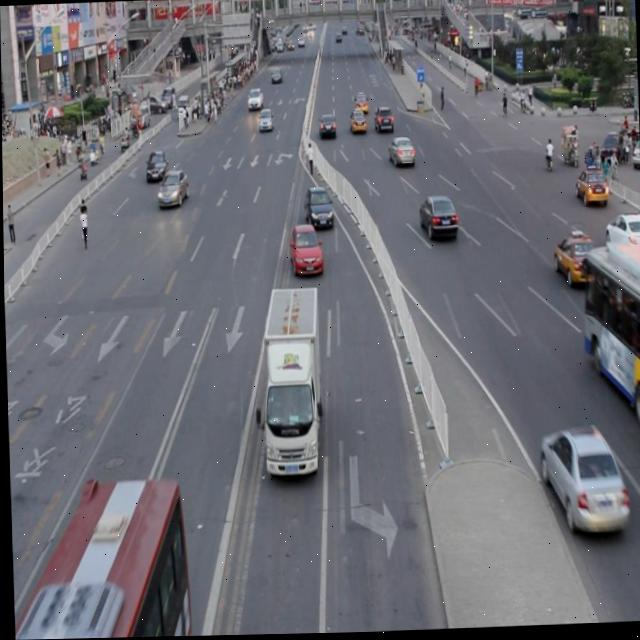bus: (257, 286, 321, 475)
car: (536, 427, 625, 536), (551, 235, 596, 287), (417, 195, 456, 242), (288, 223, 321, 277), (601, 214, 640, 258), (573, 169, 607, 209), (303, 186, 332, 231), (156, 169, 187, 209), (144, 150, 168, 184)
van: (9, 474, 189, 640), (578, 246, 640, 420)
